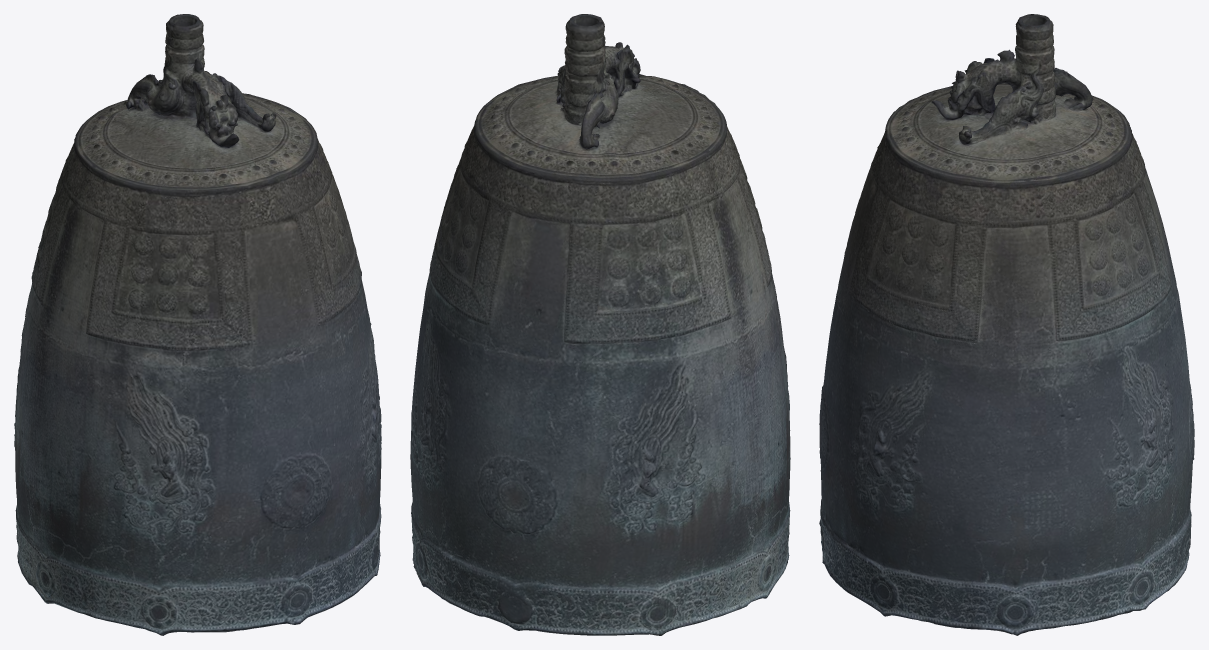
The model's file is bell.glb.
3 views of the same model, side by side, from view 1: azimuth 30°, elevation 25°; view 2: azimuth 150°, elevation 25°; view 3: azimuth 270°, elevation 25° (orthographic). The views are drawn at different scales.
Parts seen in each view (by area): view 1: PM3D_Recovered_Tool3_3; view 2: PM3D_Recovered_Tool3_3; view 3: PM3D_Recovered_Tool3_3.
Boxes of the visible parts, x1,y1,x2,y2 form: PM3D_Recovered_Tool3_3: [14, 14, 381, 635]; PM3D_Recovered_Tool3_3: [410, 14, 790, 635]; PM3D_Recovered_Tool3_3: [819, 14, 1194, 635].
Bounding box in the file's own units: 2.79 × 4.47 × 2.81.
Materials: 1 (1 with a texture image).
